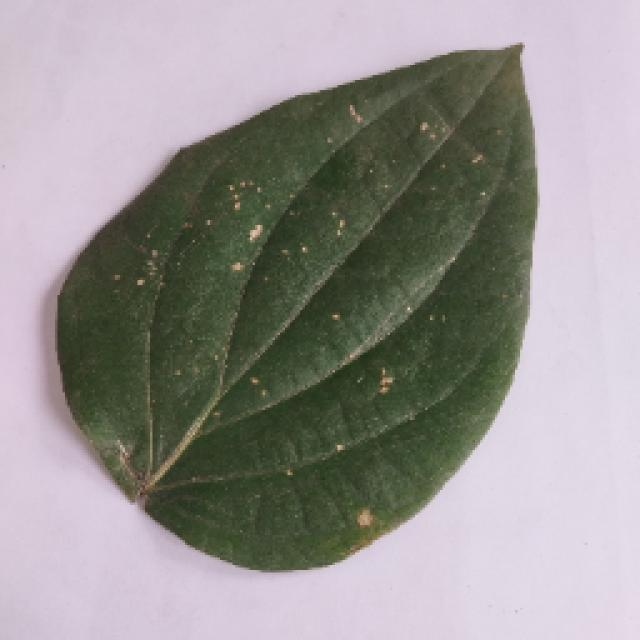pollu-disease: (25, 52, 593, 582)
